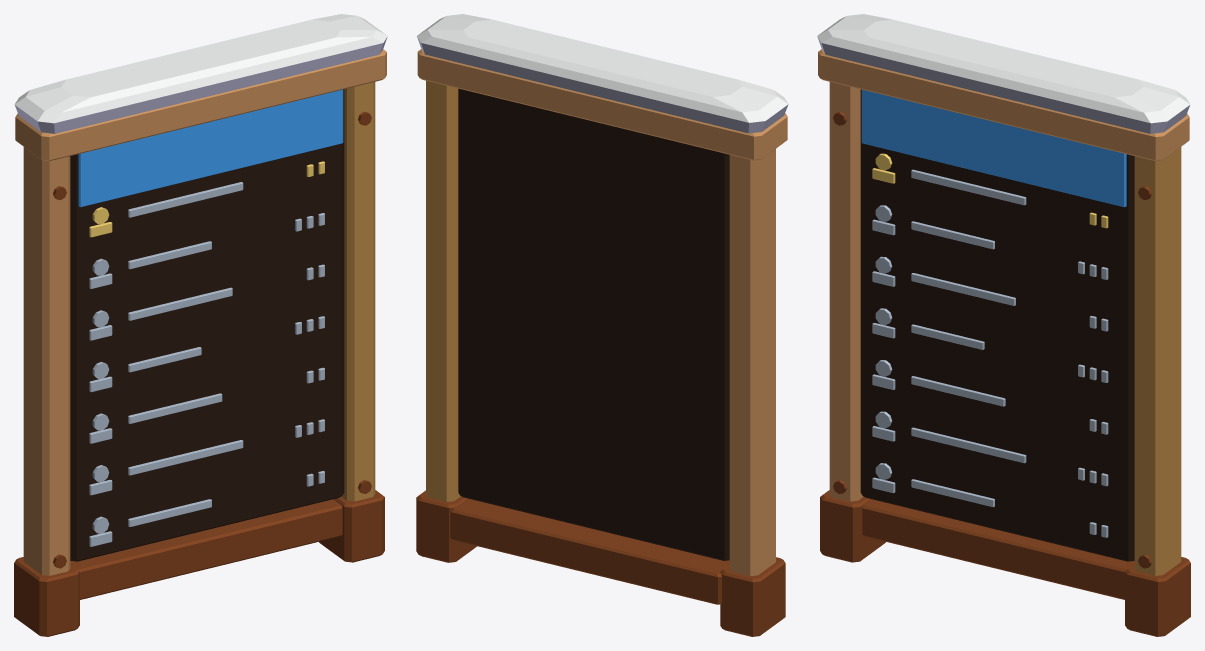
File: Leaderboard01.glb
3 views of the same model, side by side, from view 1: azimuth 30°, elevation 25°; view 2: azimuth 150°, elevation 25°; view 3: azimuth 330°, elevation 25° (orthographic).
Parts seen in each view (by area): view 1: Leaderboard01; view 2: Leaderboard01; view 3: Leaderboard01.
Boxes of the visible parts, <box> form: Leaderboard01: <box>14,14,387,636</box>; Leaderboard01: <box>416,14,788,636</box>; Leaderboard01: <box>817,14,1190,636</box>.
Size of the model in its own units: 1.69 by 2.44 by 0.2982.
Materials: 1 (1 with a texture image).
